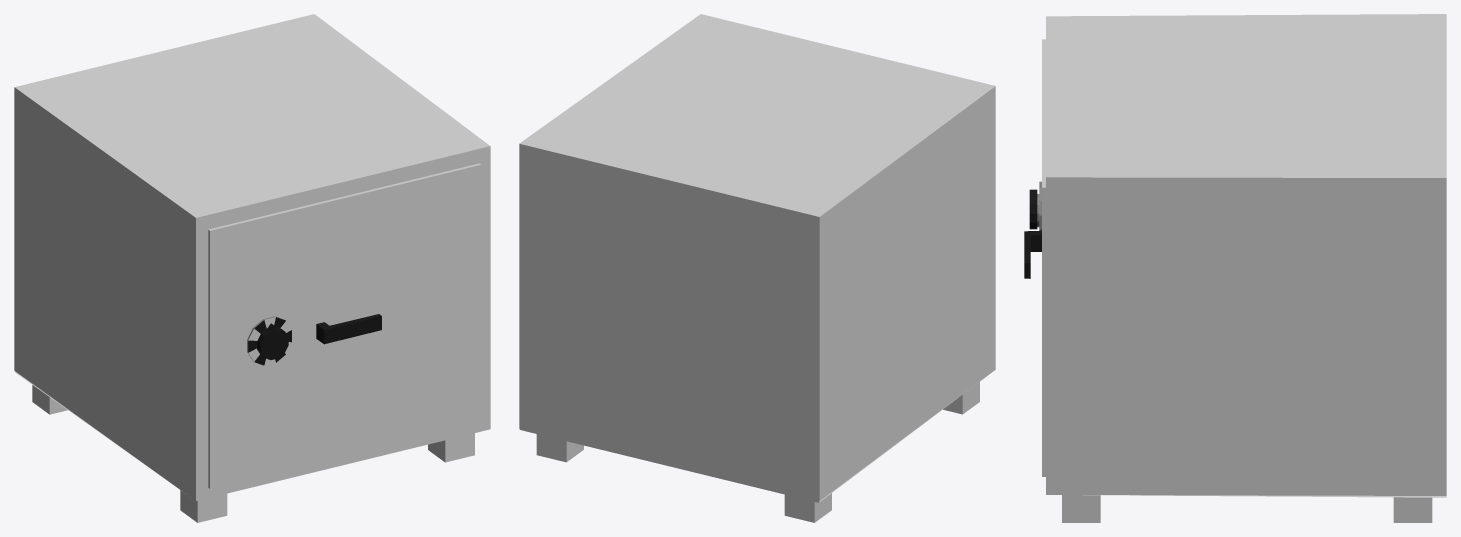
The model's file is Safe.glb.
3 views of the same model, side by side, from view 1: azimuth 30°, elevation 25°; view 2: azimuth 150°, elevation 25°; view 3: azimuth 270°, elevation 25° (orthographic). The views are drawn at different scales.
Visible parts, largest first — view 1: Safe; view 2: Safe; view 3: Safe.
Part boxes in pixels (x1,y1,x2,y2): Safe: [14, 14, 490, 522]; Safe: [519, 14, 995, 522]; Safe: [1024, 14, 1446, 522].
Bounding box in the file's own units: 0.6098 × 0.6079 × 0.6634.
2 materials, 1 textured.
